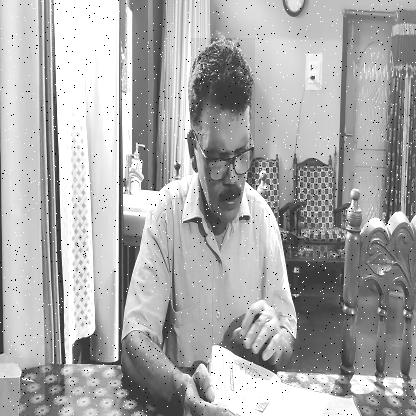Normal: (191, 38, 255, 223)
